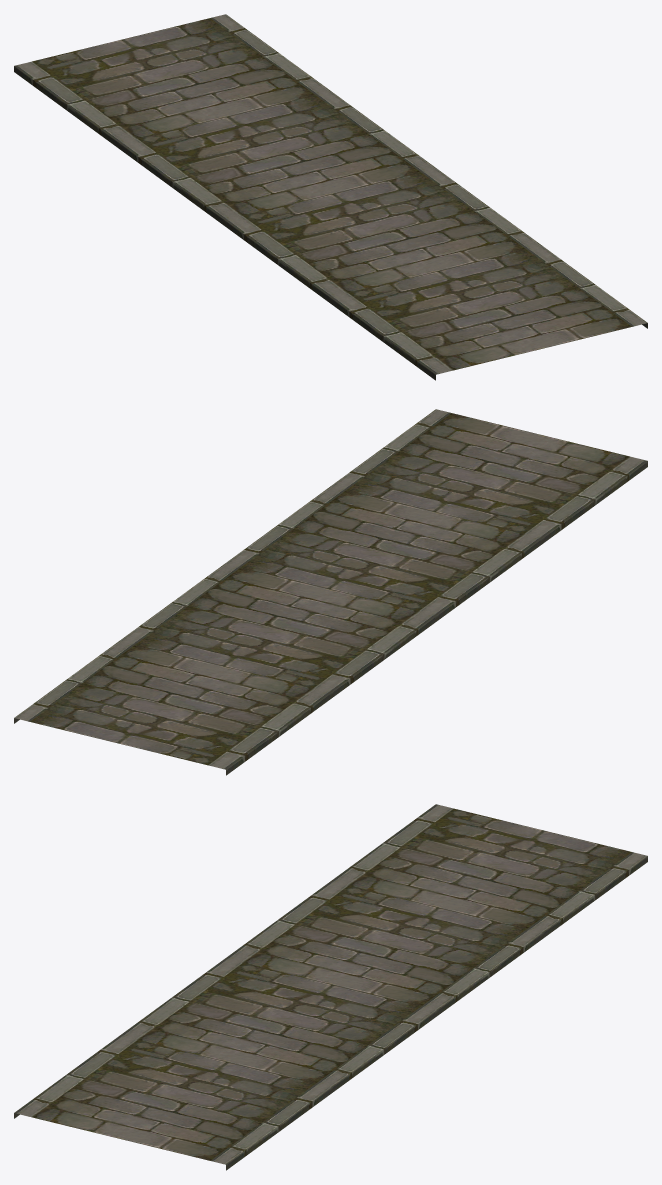
Rendered from s7_3d_xiaolu.FBX.
3 renders of one model, top to bottom at view 1: azimuth 30°, elevation 25°; view 2: azimuth 150°, elevation 25°; view 3: azimuth 330°, elevation 25°, orthographic.
Visible parts, largest first — view 1: Rectangle020; view 2: Rectangle020; view 3: Rectangle020.
Part boxes in pixels (box(x1,y1,x2,y2)): Rectangle020: box(14, 14, 647, 380); Rectangle020: box(14, 409, 647, 775); Rectangle020: box(14, 804, 647, 1170).
Bounding box in the file's own units: 1029 × 28.08 × 3547.
